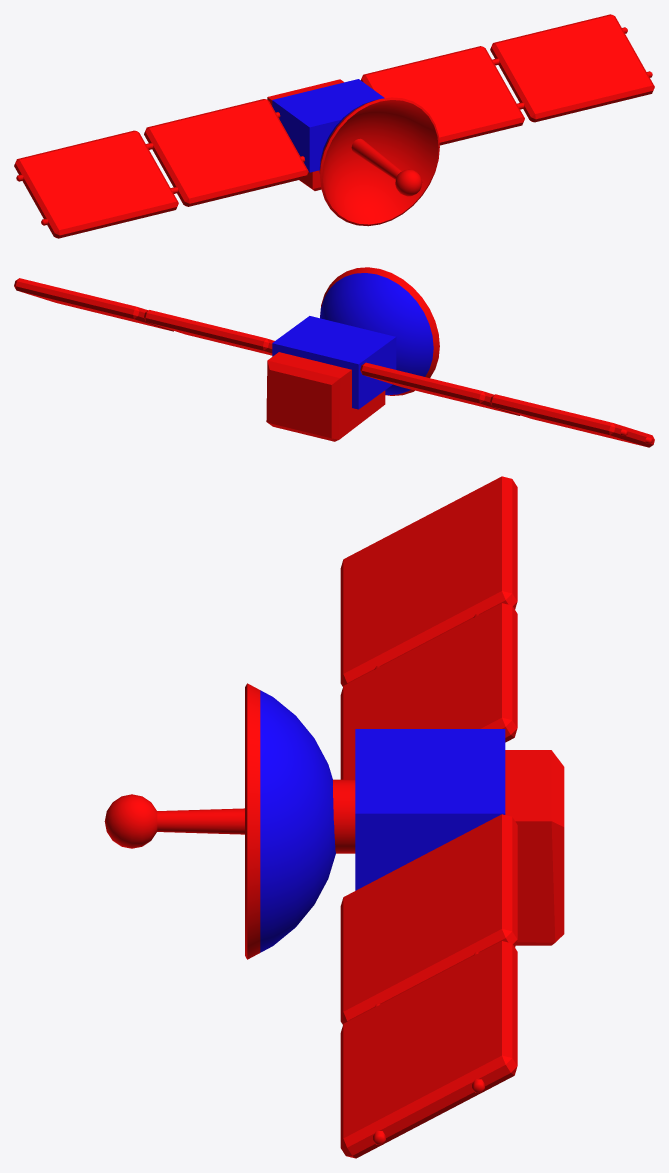
The model's file is Satellite 1.FBX.
3 renders of one model, top to bottom at view 1: azimuth 30°, elevation 25°; view 2: azimuth 150°, elevation 25°; view 3: azimuth 270°, elevation 25°, orthographic. The views are drawn at different scales.
Parts seen in each view (by area): view 1: Satellite1; view 2: Satellite1; view 3: Satellite1.
Boxes of the visible parts, left/top/right/bottom form: Satellite1: left=14, top=14, right=654, bottom=238; Satellite1: left=14, top=267, right=654, bottom=447; Satellite1: left=104, top=476, right=564, bottom=1158.
Size of the model in its own units: 282 by 55.43 by 91.97.
